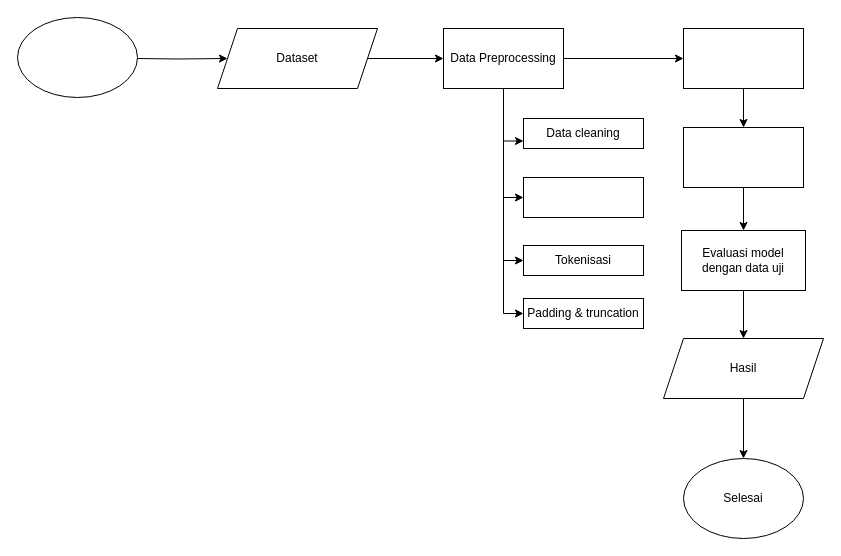
Image size: 841x556. Some labels were removed from this diagram. Here are the shapes that lost their labels. From the top down, the centre of each, then its label:
At [77,57]: "Mulai".
At [743,58]: "Perancangan model (menentukan hyperparameter)".
At [743,157]: "Pelatihan model dengan data latih & valid".
At [583,197]: "Handle imbalance data".
